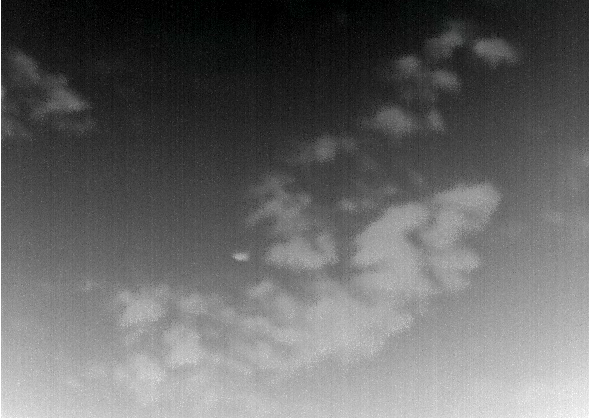dim target: (232, 250, 250, 262)
